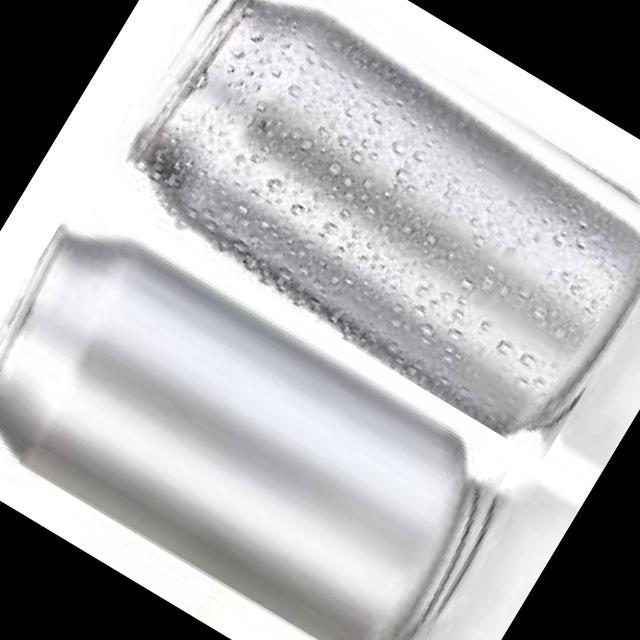Cans: (87, 0, 640, 459), (0, 182, 542, 640)
